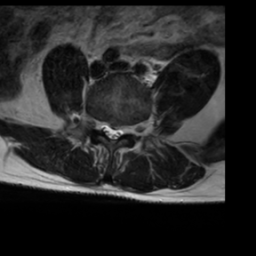CCS_severe_stenosis: (109, 119, 117, 148)
LFS_normal: (125, 118, 134, 139)
LLS_normal: (117, 118, 125, 142)
RFS_normal: (93, 110, 102, 136)
RLS_normal: (101, 115, 109, 142)
